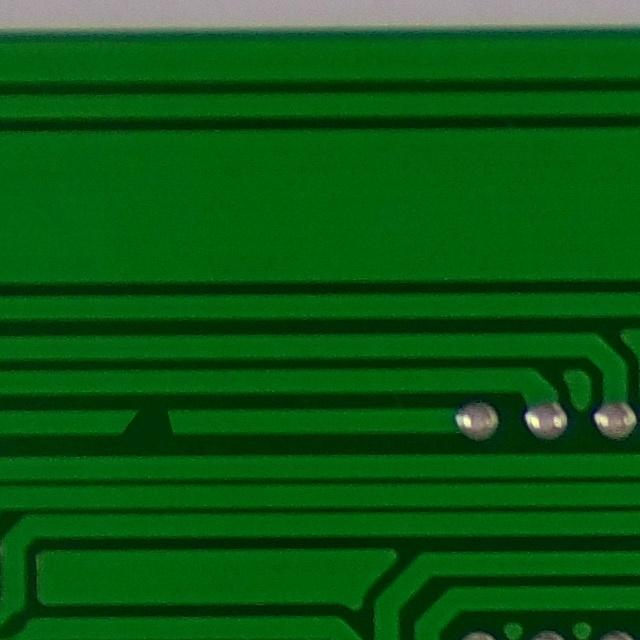open_circuit: (108, 402, 191, 442)
